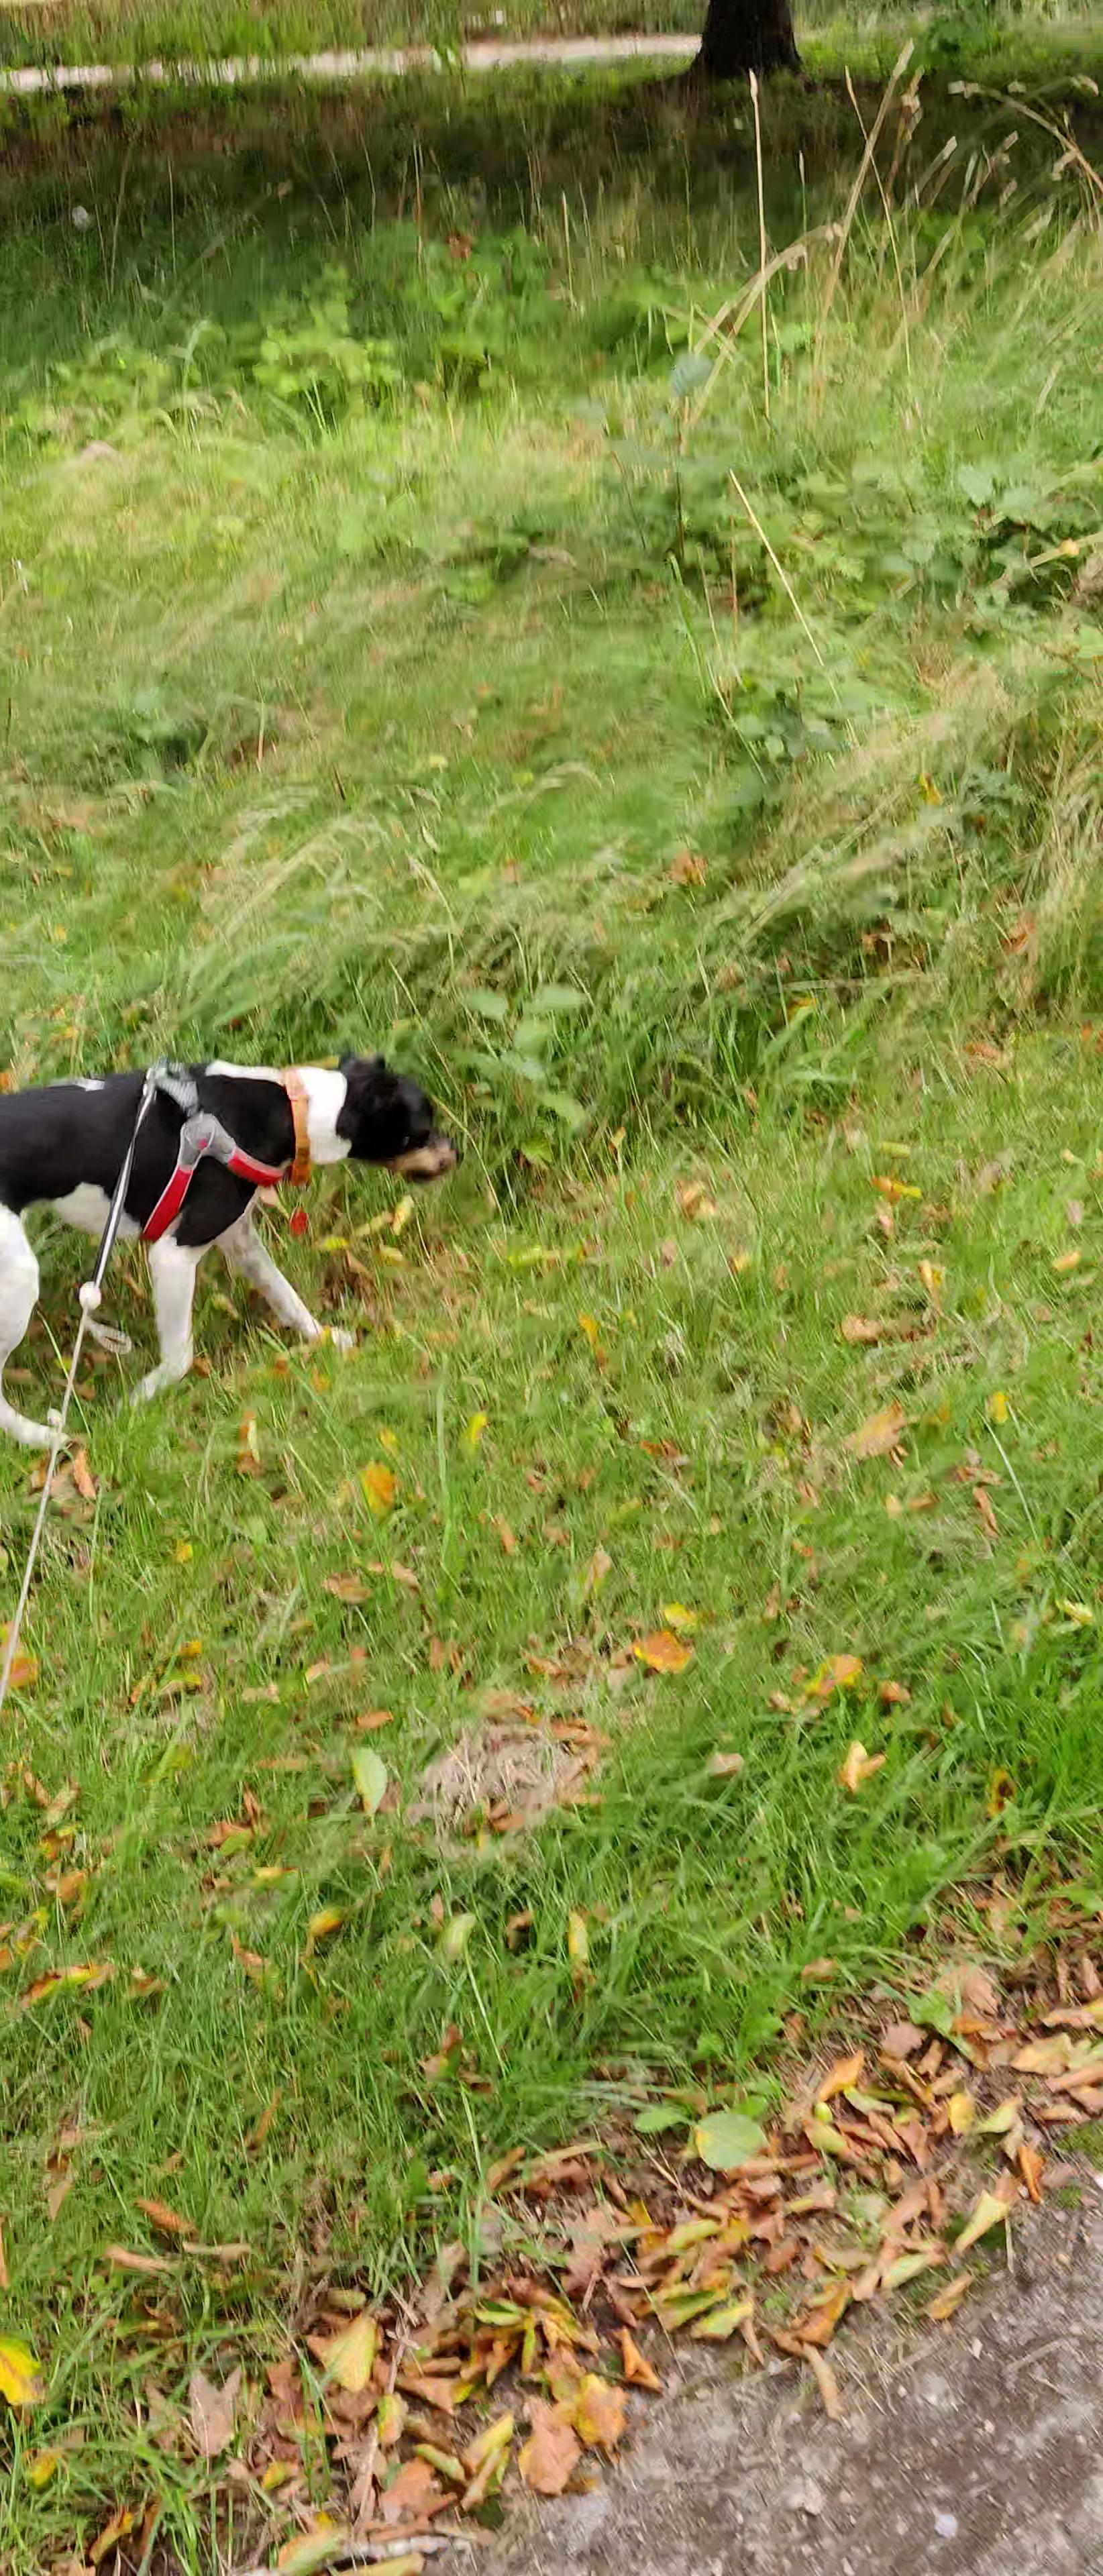Dog: (0, 1015, 488, 1472)
